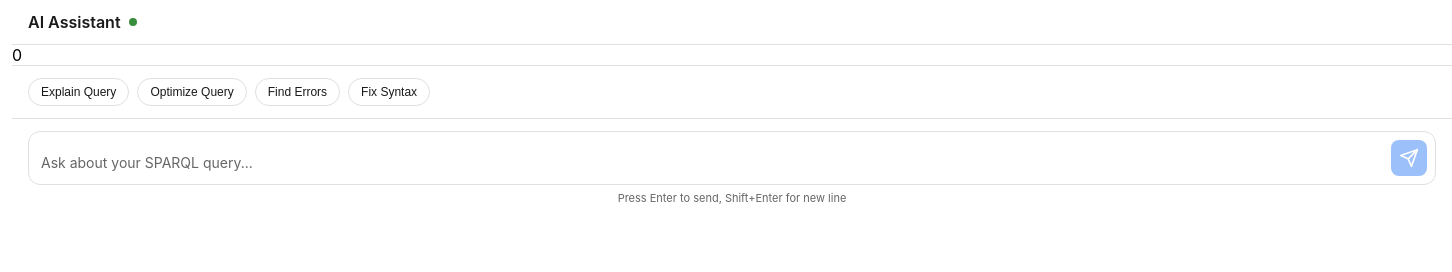
Scenario: AIPanel - configured › records tool failures (result error and thrown error)
The width and height of the screenshot is (1452, 272).
Type "go" into the text box with placeholder "Ask about your SPARQL query..." at (712,164), box [41, 152, 1383, 176]
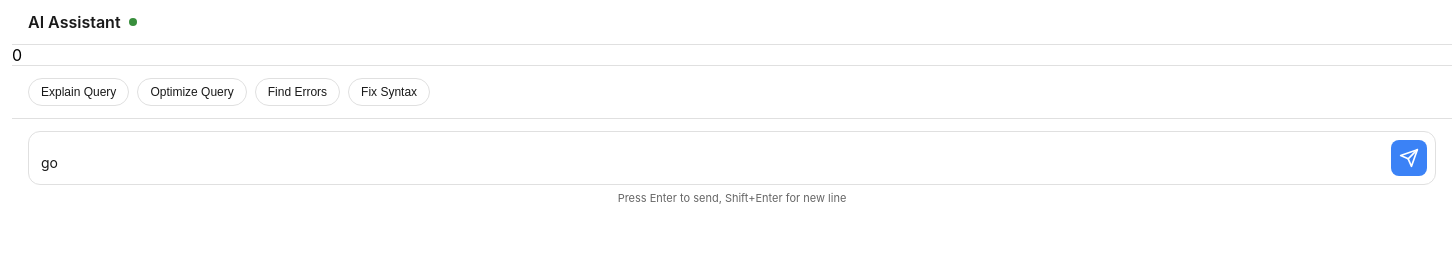
Click the button with class "send-button" at (1409,158), box [1391, 140, 1427, 176]
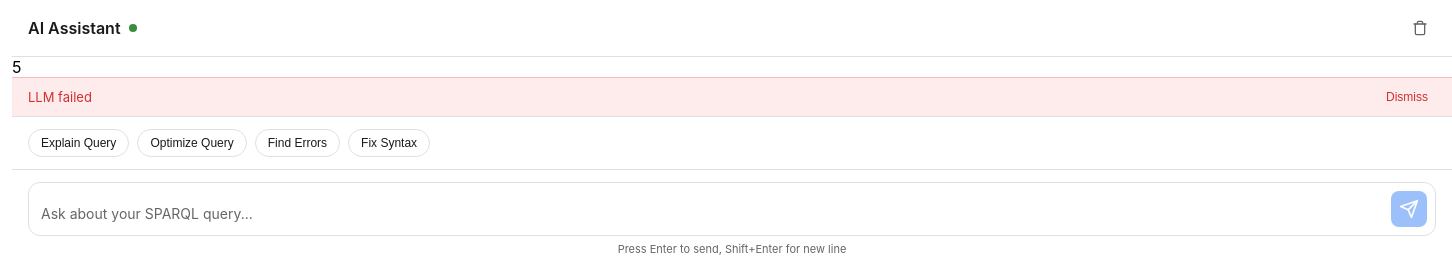
Check: the element with class "error-banner" shows "LLM failed", box [28, 89, 92, 105]
